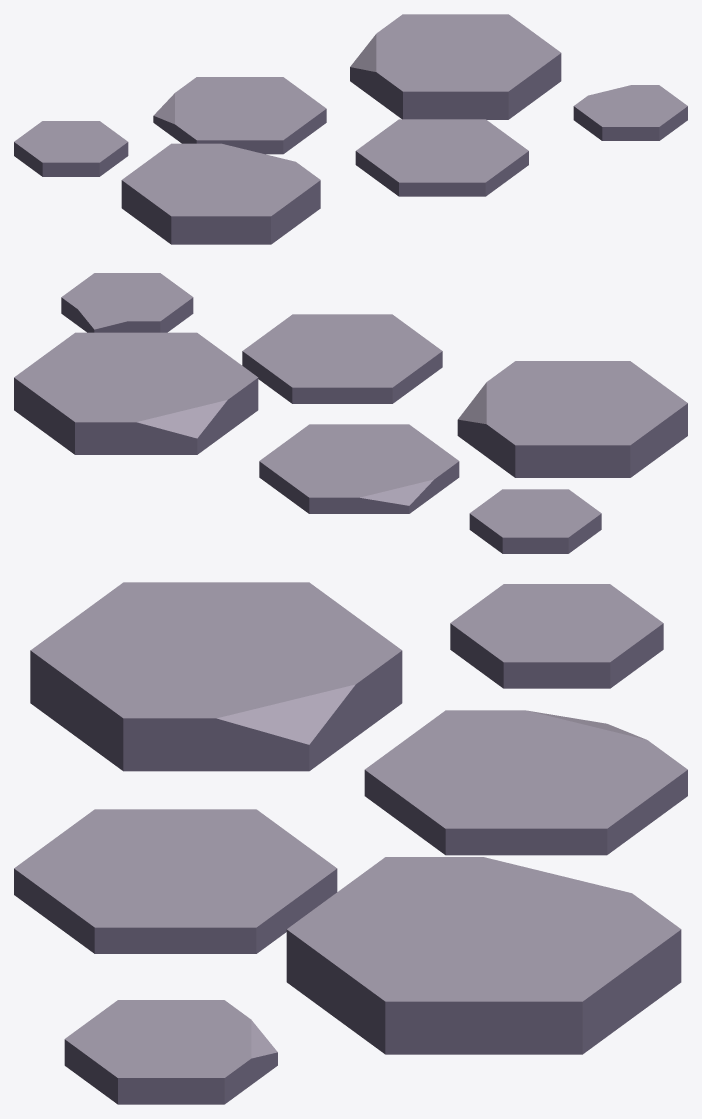
File: path_stone.glb
3 renders of one model, top to bottom at view 1: azimuth 30°, elevation 25°; view 2: azimuth 150°, elevation 25°; view 3: azimuth 270°, elevation 25°, orthographic. The views are drawn at different scales.
Parts seen in each view (by area): view 1: path_stone; view 2: path_stone; view 3: path_stone.
Boxes of the visible parts, x1=… form: path_stone: x1=14, y1=14, x2=687, y2=244; path_stone: x1=14, y1=273, x2=687, y2=553; path_stone: x1=14, y1=582, x2=687, y2=1104.
Size of the model in its own units: 1.4 by 0.07 by 0.8073.
